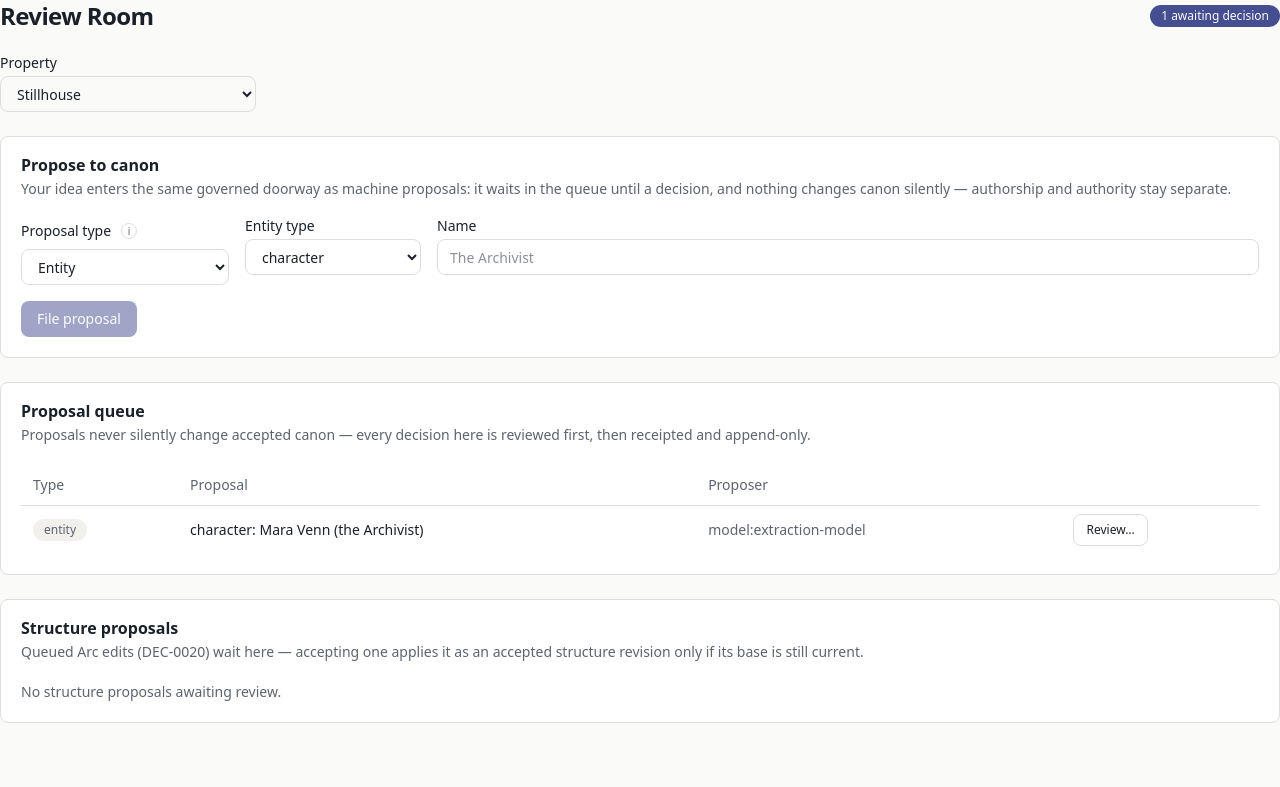
Test case: Review Room — proposal provenance and impact (SWUX-011) › shows origin, source, before/after diff, and affected-production impact
Expected: the text "character: Mara Venn (the Archivist)" is shown, top-left (178, 505), bottom-right (696, 554)
Click the button "Review…": coordinates (1111, 530) top-left (1074, 514), bottom-right (1148, 546)
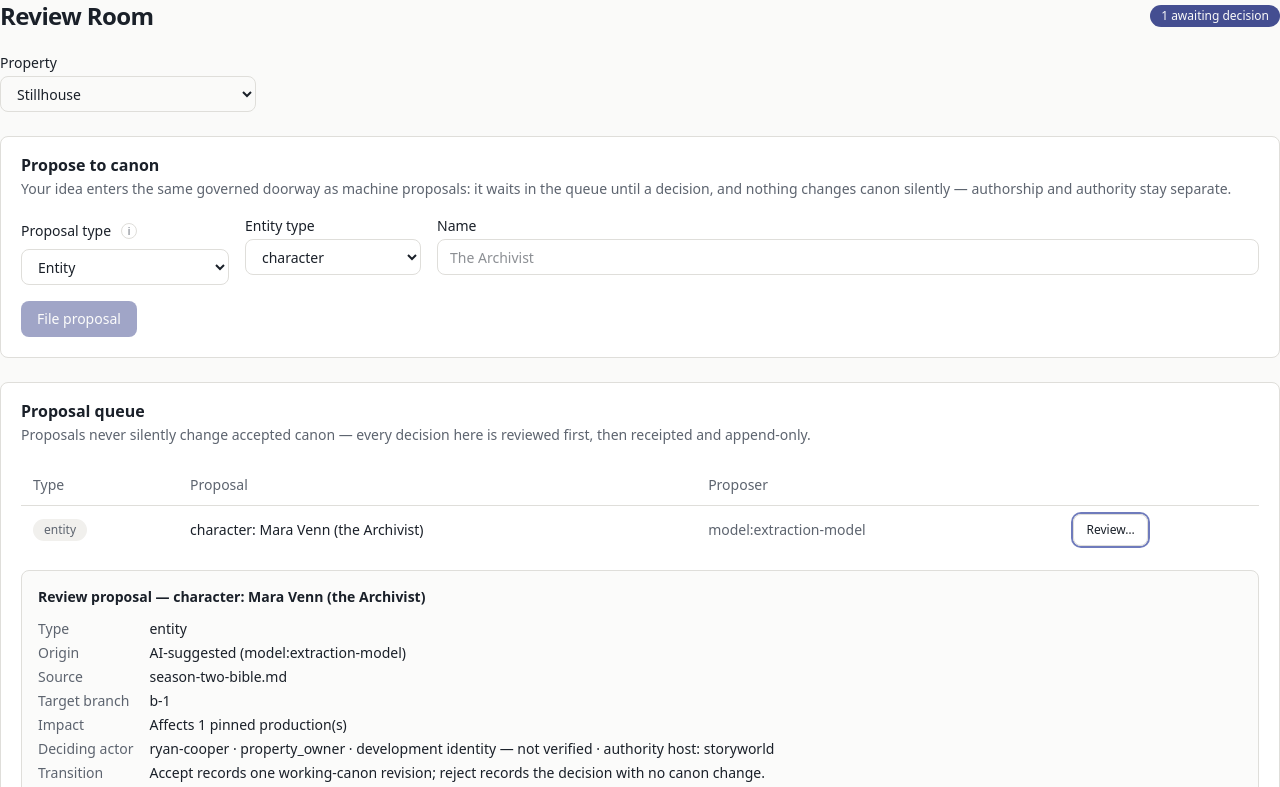
Result: the text "AI-suggested (model:extraction-model)" is shown at top-left (150, 642), bottom-right (406, 662)
Result: the text "season-two-bible.md" is shown at top-left (150, 666), bottom-right (287, 686)
Result: the text "Affects 1 pinned production(s)" is shown at top-left (150, 714), bottom-right (347, 734)
